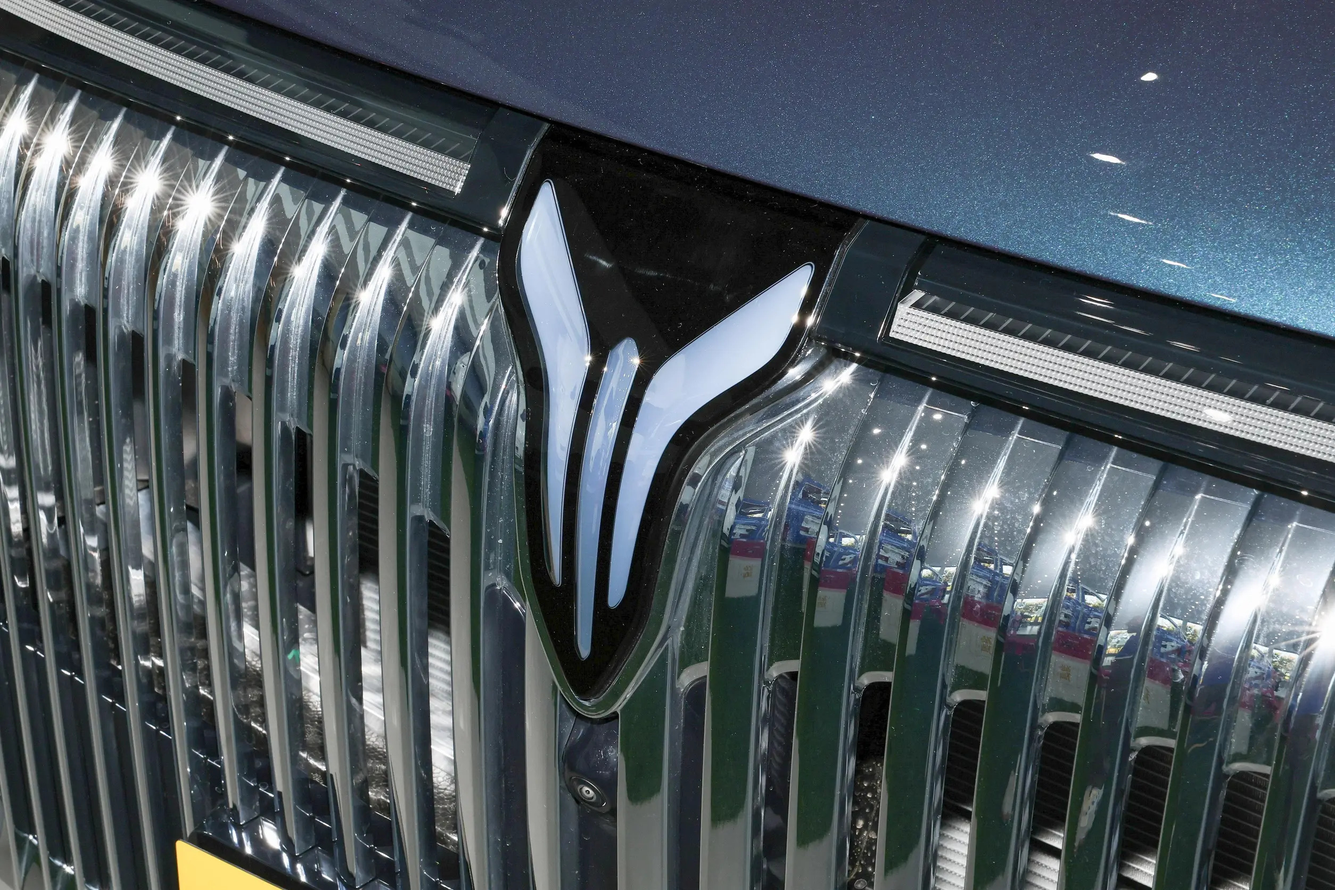VOYAH: (519, 178, 815, 658)
